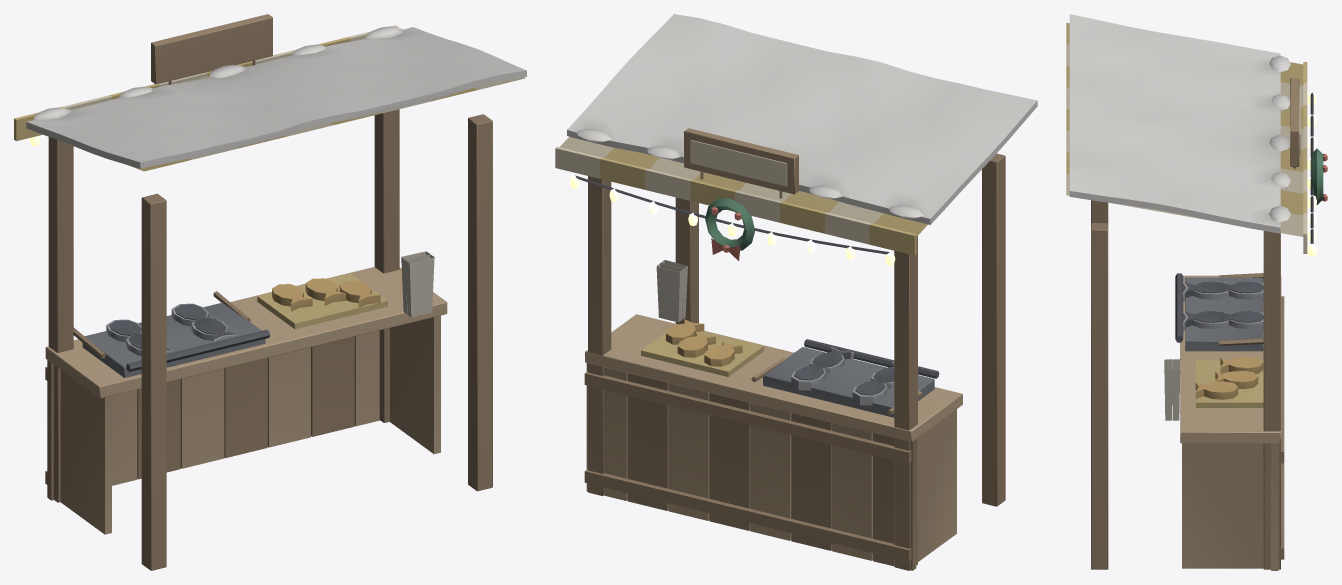
File: market_stall_fishbread.glb
3 renders of one model, left to right at view 1: azimuth 30°, elevation 25°; view 2: azimuth 150°, elevation 25°; view 3: azimuth 270°, elevation 25°, orthographic. The views are drawn at different scales.
Parts seen in each view (by area): view 1: market_stall_fishbread; view 2: market_stall_fishbread; view 3: market_stall_fishbread.
Part boxes in pixels (left/top/right/bottom): market_stall_fishbread: left=14, top=14, right=526, bottom=570; market_stall_fishbread: left=555, top=14, right=1037, bottom=570; market_stall_fishbread: left=1066, top=14, right=1327, bottom=570.
Bounding box in the file's own units: 2.49 × 2.6 × 1.57.
